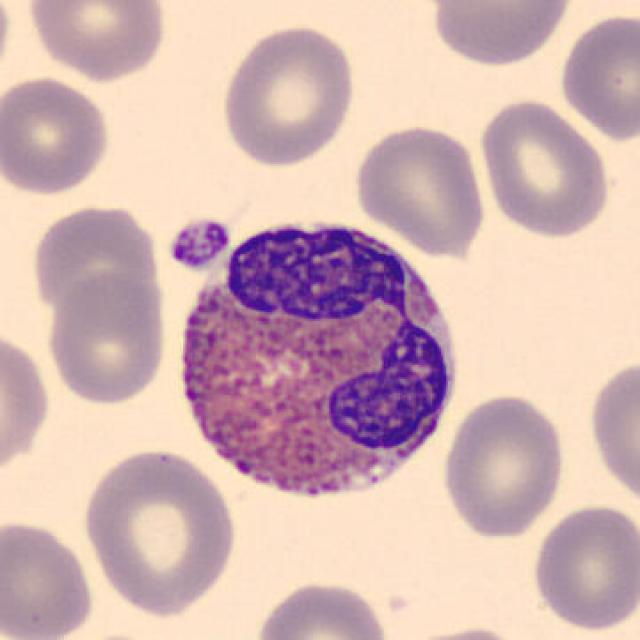Eosinophil: (162, 197, 469, 524)
Platelets: (163, 215, 233, 275)
RBC: (78, 444, 240, 619), (217, 19, 361, 170), (477, 95, 615, 242), (439, 390, 569, 541), (350, 120, 489, 259), (42, 272, 170, 408), (27, 201, 165, 319), (0, 72, 116, 198), (528, 501, 638, 633), (23, 0, 171, 85), (0, 516, 98, 640), (554, 9, 640, 143), (427, 0, 576, 67), (249, 576, 395, 640), (585, 351, 638, 515), (0, 324, 53, 486), (396, 622, 532, 640)
